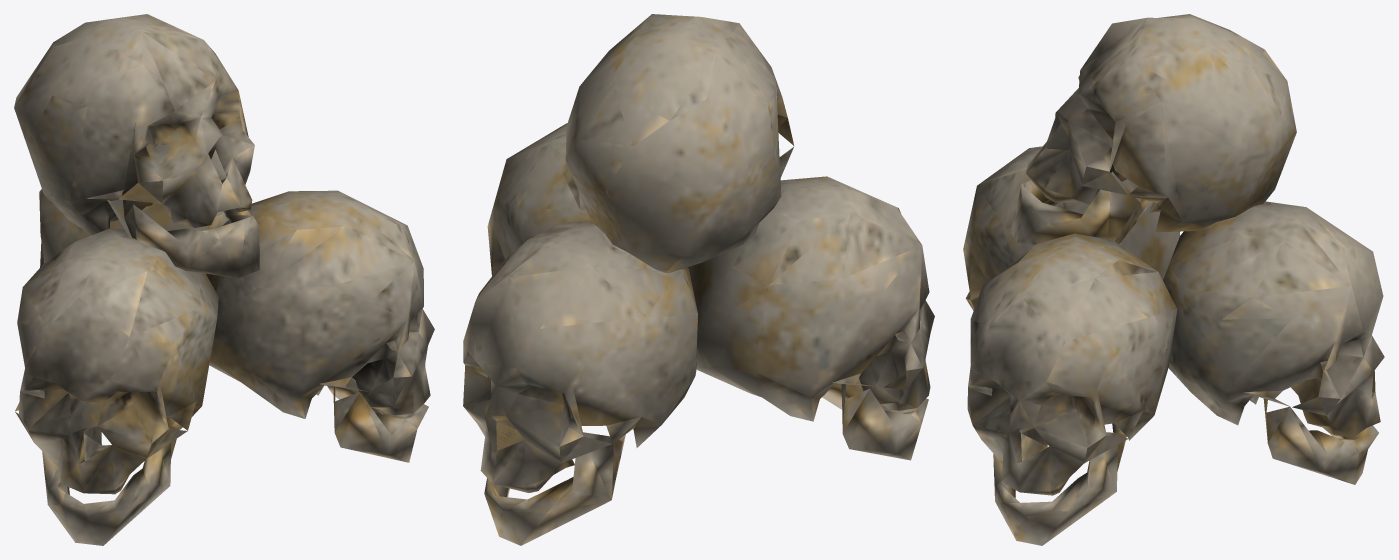
Rendered from SM_Prop_Skeleton4.fbx.
3 views of the same model, side by side, from view 1: azimuth 30°, elevation 25°; view 2: azimuth 150°, elevation 25°; view 3: azimuth 270°, elevation 25° (orthographic). The views are drawn at different scales.
Visible parts, largest first — view 1: SM_Prop_Skeleton4_LOD0; view 2: SM_Prop_Skeleton4_LOD0; view 3: SM_Prop_Skeleton4_LOD0.
Part boxes in pixels (bbox=[...]): SM_Prop_Skeleton4_LOD0: bbox=[14, 14, 434, 545]; SM_Prop_Skeleton4_LOD0: bbox=[463, 14, 934, 545]; SM_Prop_Skeleton4_LOD0: bbox=[963, 14, 1384, 545].
Bounding box in the file's own units: 38.46 × 36.3 × 40.51.
Materials: 1 (1 with a texture image).
